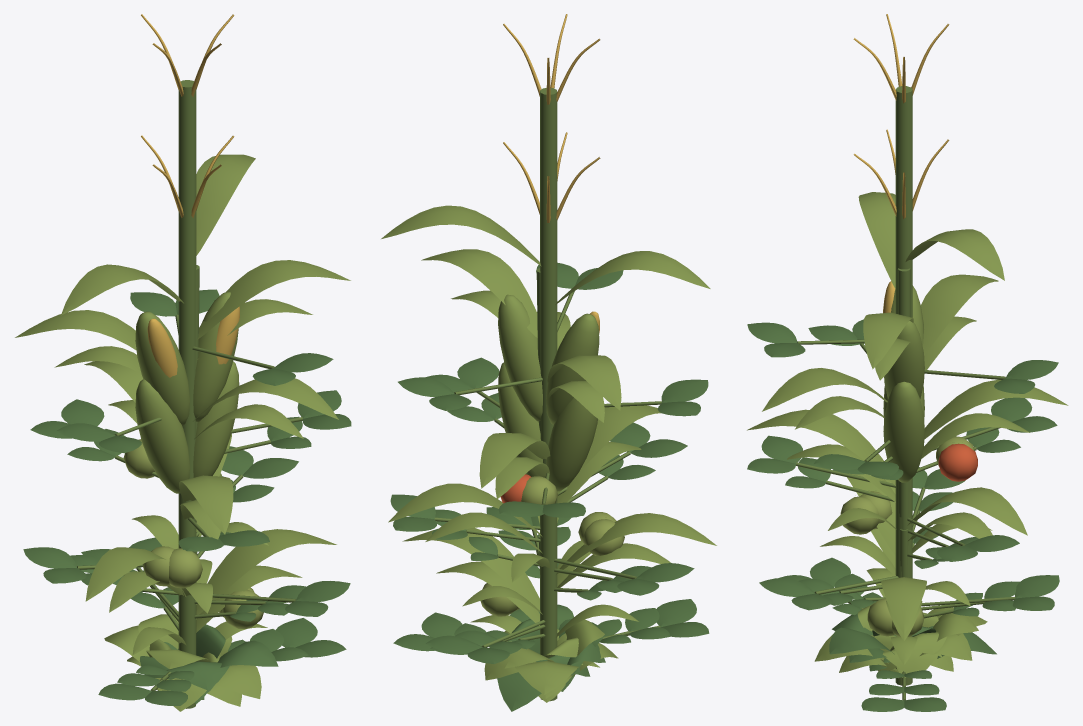
The model's file is crops.glb.
3 views of the same model, side by side, from view 1: azimuth 30°, elevation 25°; view 2: azimuth 150°, elevation 25°; view 3: azimuth 270°, elevation 25° (orthographic). The views are drawn at different scales.
Visible parts, largest first — view 1: corn_4_young_tropical_leaf, tomato_3_tropical_leaf_upper, corn_3_young_tropical_leaf, corn_stalk, tomato_2_tropical_leaf_upper, lettuce_3_young_tropical_leaf, tomato_2_green_tomato, lettuce_3_tropical_leaf_upper, corn_2_young_tropical_leaf, corn_4_corn_grain, tomato_3_green_fibrous_stem, tomato_1_tropical_leaf_upper (+2 smaller); view 2: corn_4_young_tropical_leaf, tomato_3_tropical_leaf_upper, corn_3_young_tropical_leaf, corn_stalk, tomato_2_tropical_leaf_upper, lettuce_3_young_tropical_leaf, corn_2_young_tropical_leaf, tomato_3_green_fibrous_stem, tomato_2_green_tomato, lettuce_3_tropical_leaf_upper, tomato_1_tropical_leaf_upper, corn_4_corn_grain (+2 smaller); view 3: corn_4_young_tropical_leaf, tomato_3_tropical_leaf_upper, corn_3_young_tropical_leaf, tomato_2_tropical_leaf_upper, corn_stalk, lettuce_3_young_tropical_leaf, tomato_3_green_fibrous_stem, corn_2_young_tropical_leaf, tomato_2_green_tomato, lettuce_3_tropical_leaf_upper, tomato_1_tropical_leaf_upper, tomato_2_green_fibrous_stem (+5 smaller).
Part boxes in pixels (x1=…): corn_4_young_tropical_leaf: x1=15, y1=154, x2=350, y2=614; tomato_3_tropical_leaf_upper: x1=23, y1=289, x2=351, y2=705; corn_3_young_tropical_leaf: x1=54, y1=299, x2=312, y2=632; corn_stalk: x1=178, y1=80, x2=196, y2=708; tomato_2_tropical_leaf_upper: x1=67, y1=416, x2=311, y2=691; lettuce_3_young_tropical_leaf: x1=104, y1=614, x2=261, y2=711; tomato_2_green_tomato: x1=123, y1=439, x2=263, y2=628; lettuce_3_tropical_leaf_upper: x1=140, y1=624, x2=278, y2=690; corn_2_young_tropical_leaf: x1=132, y1=515, x2=268, y2=654; corn_4_corn_grain: x1=141, y1=14, x2=239, y2=377; tomato_3_green_fibrous_stem: x1=77, y1=265, x2=302, y2=690; tomato_1_tropical_leaf_upper: x1=113, y1=531, x2=266, y2=679; corn_4_young_tropical_leaf: x1=381, y1=205, x2=716, y2=610; tomato_3_tropical_leaf_upper: x1=390, y1=262, x2=709, y2=663; corn_3_young_tropical_leaf: x1=425, y1=290, x2=670, y2=625; corn_stalk: x1=540, y1=88, x2=557, y2=701; tomato_2_tropical_leaf_upper: x1=430, y1=393, x2=670, y2=654; lettuce_3_young_tropical_leaf: x1=484, y1=619, x2=618, y2=694; corn_2_young_tropical_leaf: x1=462, y1=516, x2=638, y2=637; tomato_3_green_fibrous_stem: x1=434, y1=268, x2=661, y2=647; tomato_2_green_tomato: x1=480, y1=476, x2=624, y2=616; lettuce_3_tropical_leaf_upper: x1=497, y1=604, x2=605, y2=711; tomato_1_tropical_leaf_upper: x1=467, y1=537, x2=630, y2=654; corn_4_corn_grain: x1=503, y1=14, x2=600, y2=334; corn_4_young_tropical_leaf: x1=747, y1=192, x2=1068, y2=634; tomato_3_tropical_leaf_upper: x1=747, y1=319, x2=1059, y2=711; corn_3_young_tropical_leaf: x1=787, y1=316, x2=1030, y2=641; tomato_2_tropical_leaf_upper: x1=785, y1=427, x2=1020, y2=695; corn_stalk: x1=895, y1=86, x2=912, y2=685; lettuce_3_young_tropical_leaf: x1=814, y1=602, x2=987, y2=673; tomato_3_green_fibrous_stem: x1=796, y1=268, x2=1015, y2=700; corn_2_young_tropical_leaf: x1=820, y1=508, x2=992, y2=664; tomato_2_green_tomato: x1=840, y1=436, x2=974, y2=636; lettuce_3_tropical_leaf_upper: x1=829, y1=613, x2=996, y2=658; tomato_1_tropical_leaf_upper: x1=832, y1=527, x2=982, y2=678; tomato_2_green_fibrous_stem: x1=825, y1=446, x2=984, y2=687.
Bounding box in the file's own units: 1.03 × 2.24 × 1.01.
